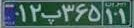character: (40, 6, 62, 26), (60, 3, 75, 26), (75, 1, 88, 25), (88, 3, 102, 24), (29, 1, 42, 22), (117, 7, 129, 26), (17, 1, 27, 23), (104, 7, 116, 25)
